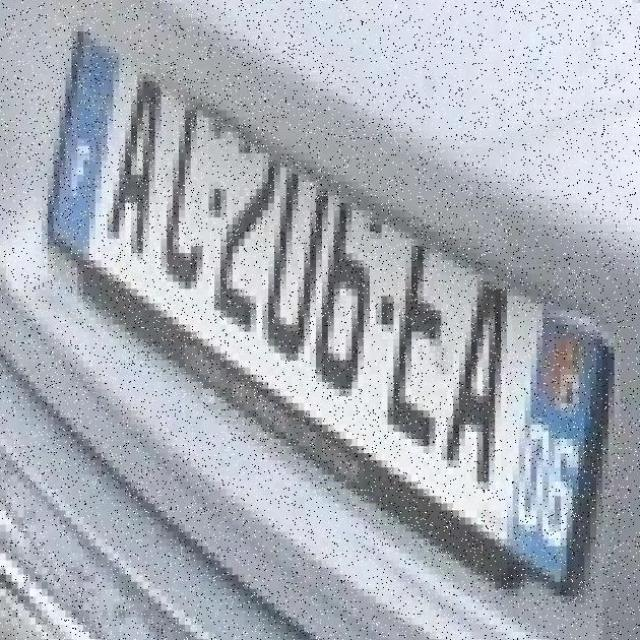License Plate: (28, 7, 622, 609)
